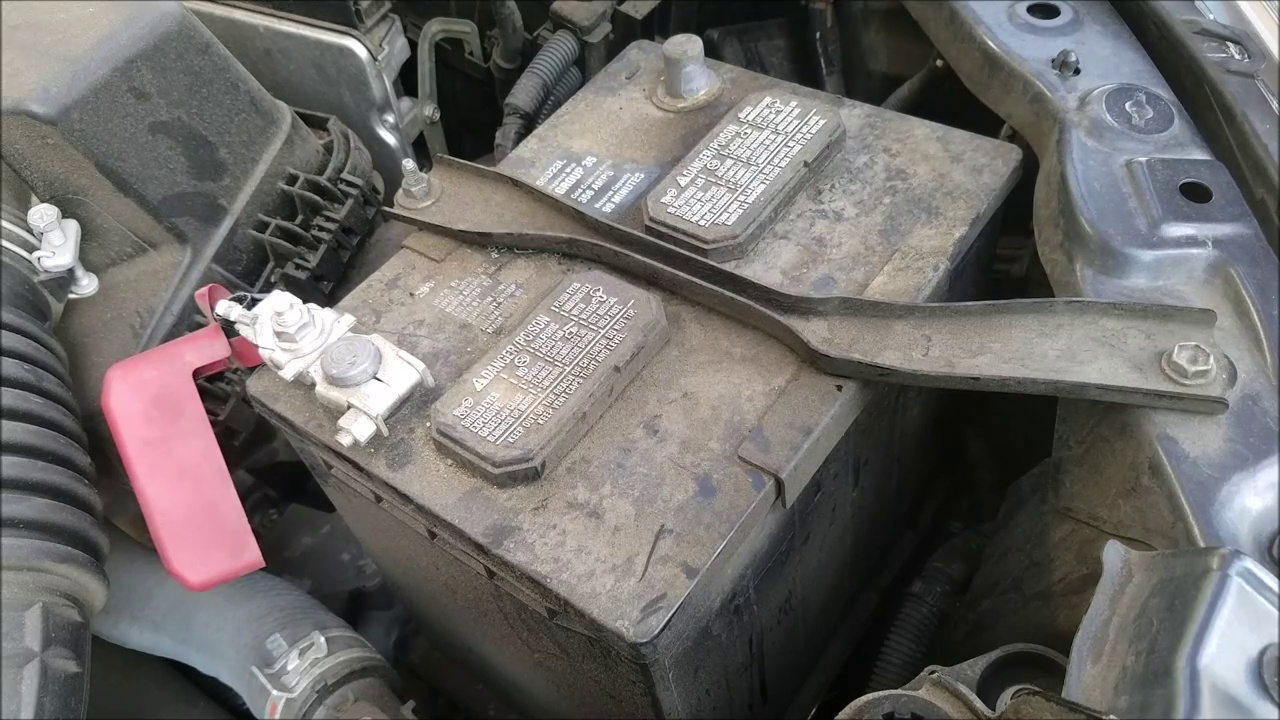battery: (254, 41, 1023, 614)
neg_disconnected: (619, 14, 738, 121)
pos_connected: (125, 278, 426, 485)
